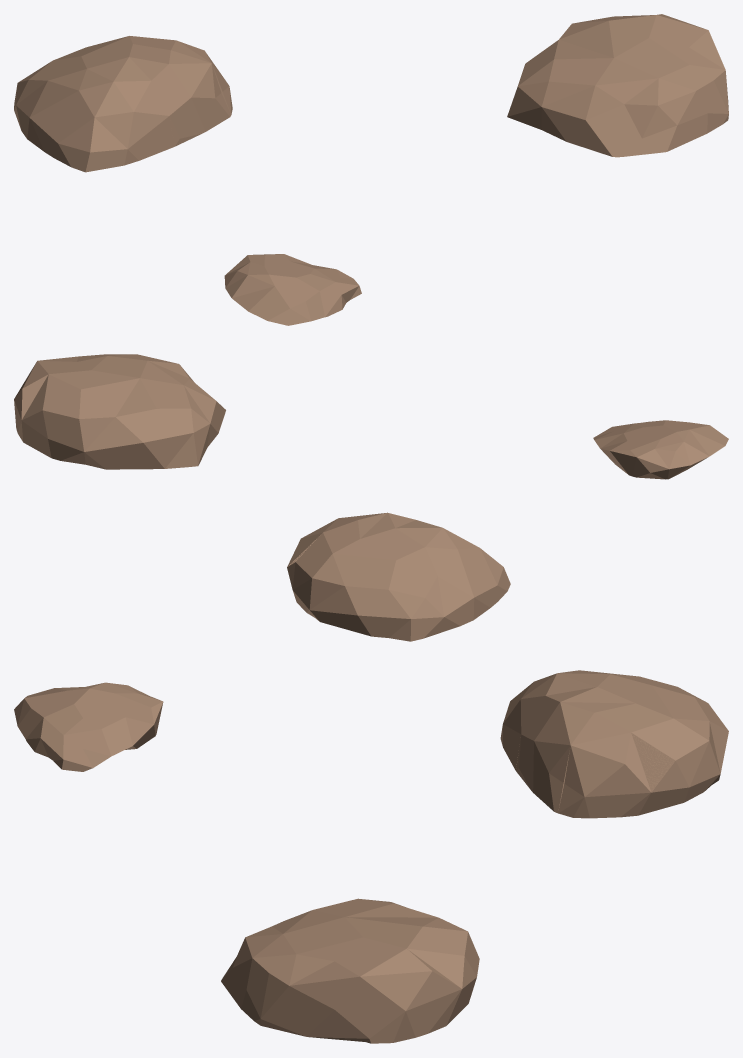
The model's file is Small_Rocks_001.fbx.
3 views of the same model, one above another, from view 1: azimuth 30°, elevation 25°; view 2: azimuth 150°, elevation 25°; view 3: azimuth 270°, elevation 25° (orthographic). The views are drawn at different scales.
Parts seen in each view (by area): view 1: Small Rocks.001; view 2: Small Rocks.001; view 3: Small Rocks.001.
Boxes of the visible parts, x1,y1,x2,y2 form: Small Rocks.001: (14, 14, 728, 325); Small Rocks.001: (14, 354, 728, 641); Small Rocks.001: (14, 670, 728, 1043).
Bounding box in the file's own units: 39.97 × 4.42 × 35.36.
